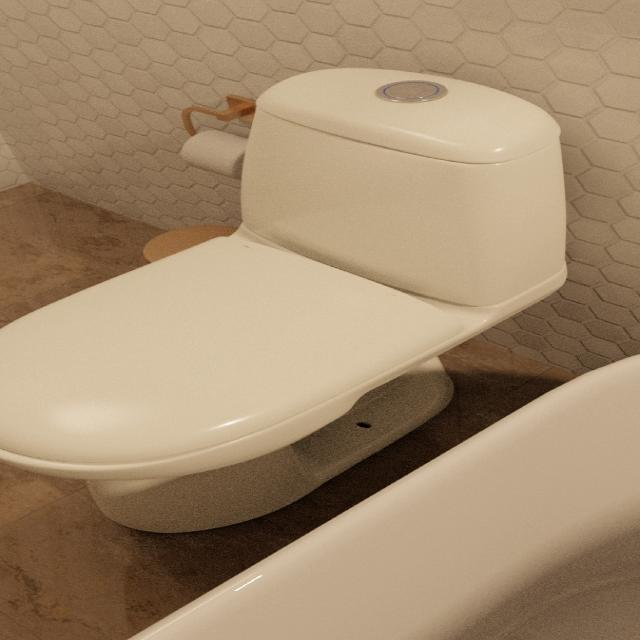toilet: (0, 66, 568, 533)
